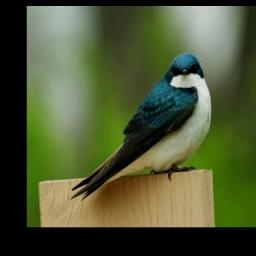Swallow: (68, 52, 213, 202)
